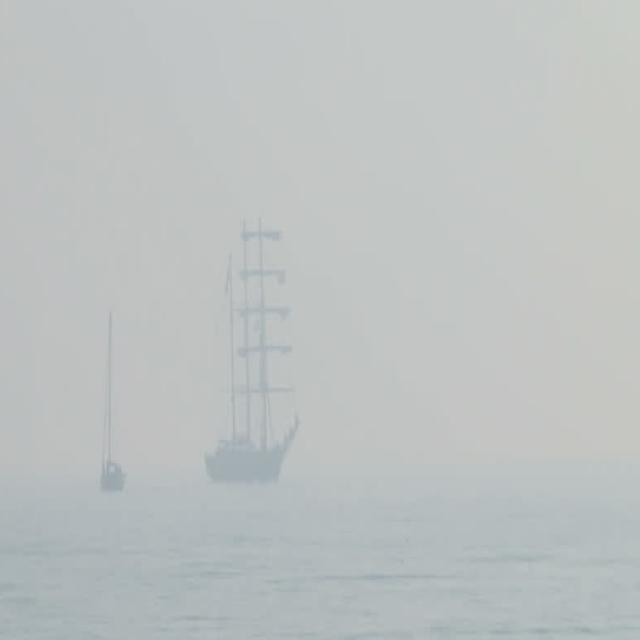fishing boat: (196, 220, 308, 470), (97, 290, 142, 502)
